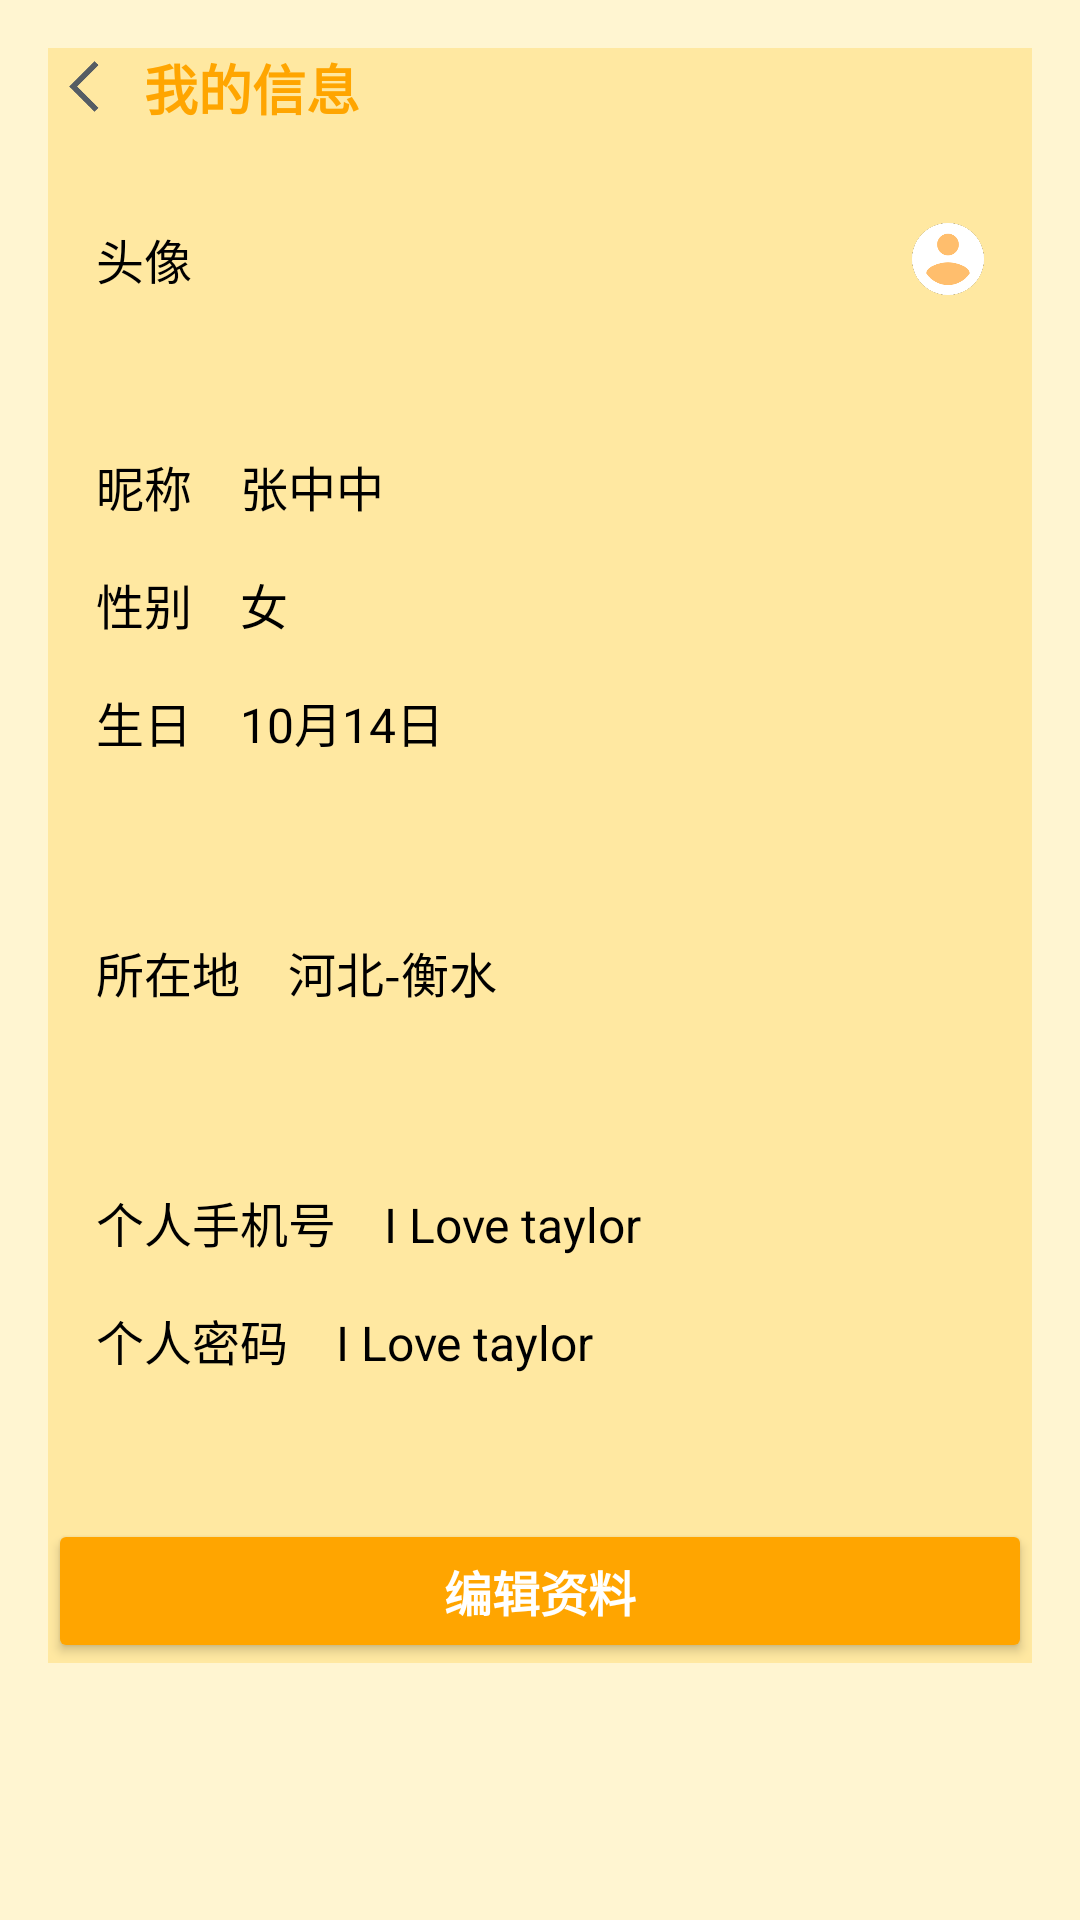

Icon click points for this 1080w x 1920h phone screenshot, format (x,y):
Back: (83,86)
user: (948,259)
